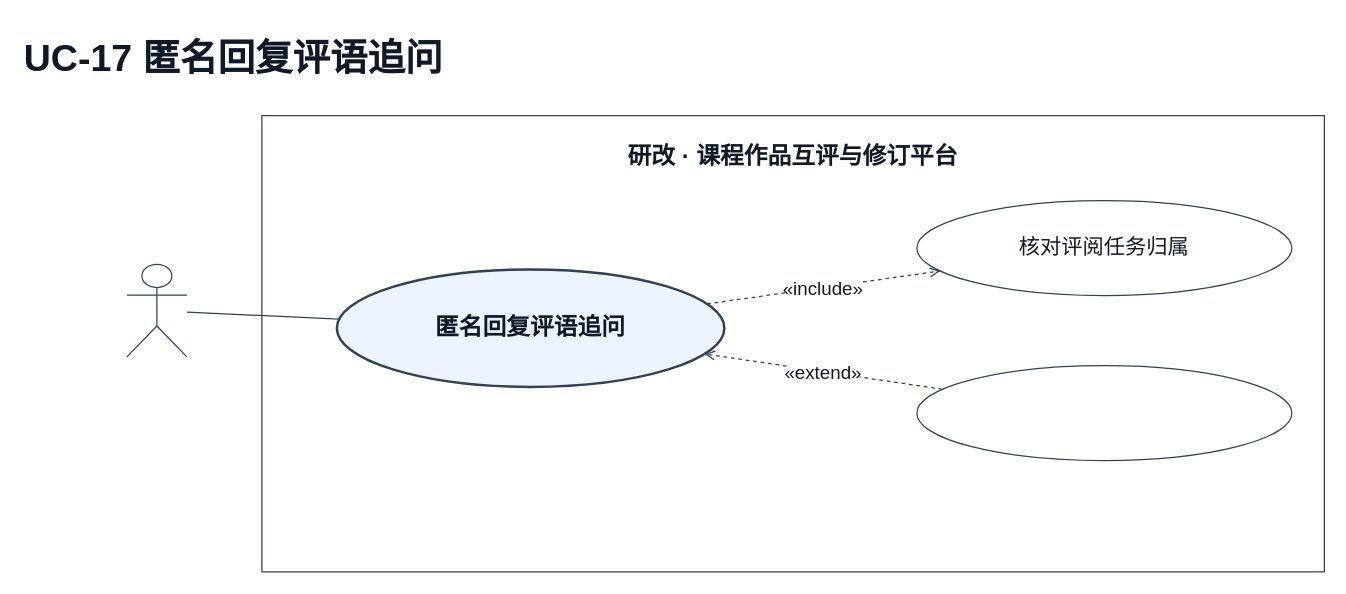
The diagram is 1346 pixels wide and 594 high, and some of its shapes have lost their labels. Each missing label, with the centre of its shape:
学生（评阅人）: point (156, 310)
非本评语评阅人拒绝回复: point (1104, 412)
